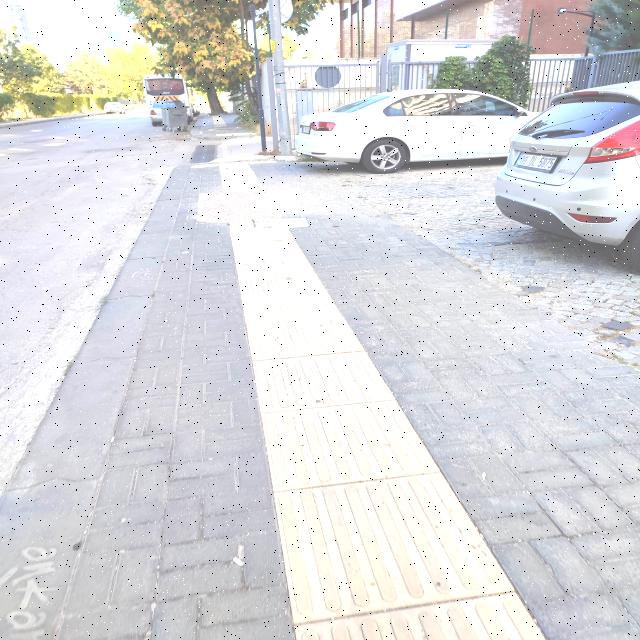sidewalk: (2, 164, 637, 640)
